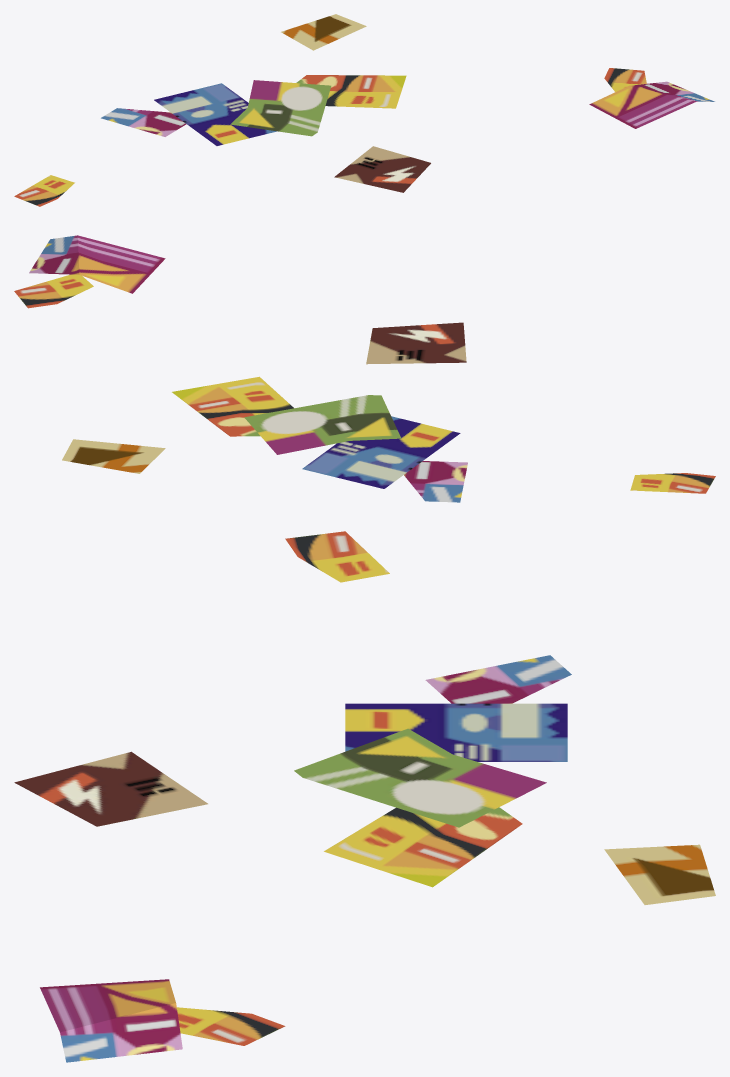
The model's file is SM_Prop_Posters_01.obj.
3 renders of one model, top to bottom at view 1: azimuth 30°, elevation 25°; view 2: azimuth 150°, elevation 25°; view 3: azimuth 270°, elevation 25°, orthographic. The views are drawn at different scales.
Visible parts, largest first — view 1: SM_Prop_Posters_01_0; view 2: SM_Prop_Posters_01_0; view 3: SM_Prop_Posters_01_0.
Boxes of the visible parts, x1,y1,x2,y2 form: SM_Prop_Posters_01_0: (14, 14, 714, 206); SM_Prop_Posters_01_0: (14, 235, 715, 502); SM_Prop_Posters_01_0: (14, 531, 715, 1062).
Bounding box in the file's own units: 1.7 × 0.0201 × 0.949.
Materials: 1 (1 with a texture image).
